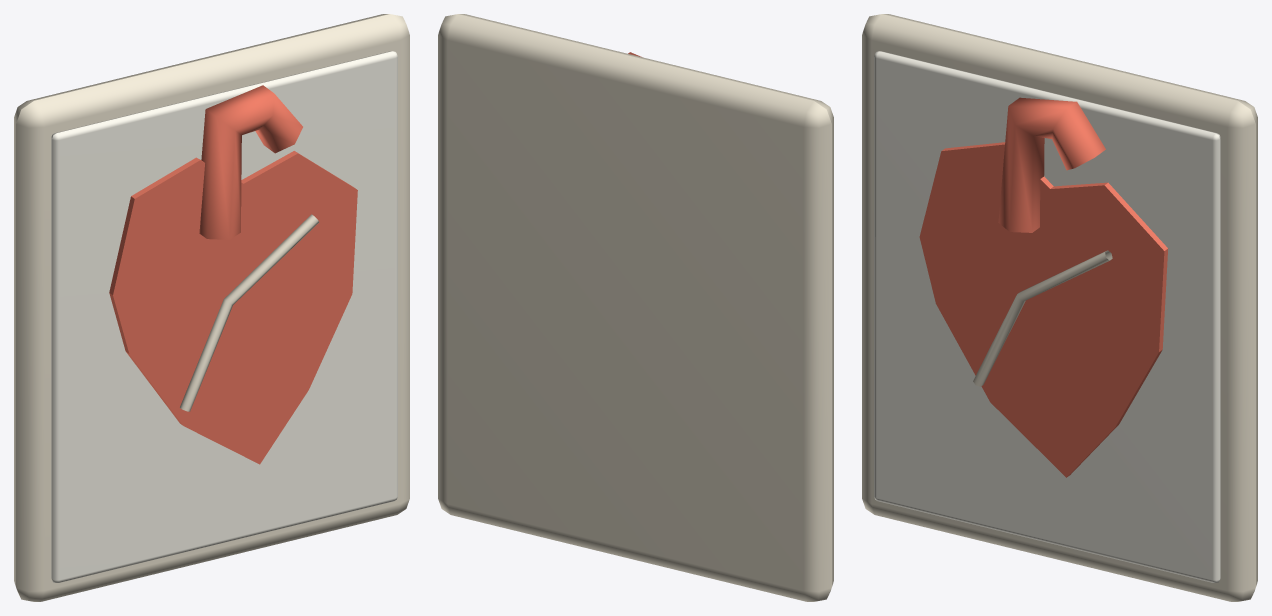
Rendered from Clinical_Art_Heart.glb.
The picture shows the model from 3 angles, left to right: view 1: azimuth 30°, elevation 25°; view 2: azimuth 150°, elevation 25°; view 3: azimuth 330°, elevation 25°; orthographic projection.
Visible parts, largest first — view 1: Clinical_Art_Heart_paper, Clinical_Art_Heart_coral, Clinical_Art_Heart_cream; view 2: Clinical_Art_Heart_cream; view 3: Clinical_Art_Heart_paper, Clinical_Art_Heart_coral, Clinical_Art_Heart_cream.
Boxes of the visible parts, x1,y1,x2,y2 form: Clinical_Art_Heart_paper: (51, 51, 397, 582); Clinical_Art_Heart_coral: (109, 85, 357, 464); Clinical_Art_Heart_cream: (14, 14, 409, 601); Clinical_Art_Heart_cream: (438, 14, 833, 601); Clinical_Art_Heart_paper: (874, 51, 1220, 582); Clinical_Art_Heart_coral: (919, 97, 1168, 477); Clinical_Art_Heart_cream: (862, 14, 1257, 601).
Bounding box in the file's own units: 0.72 × 0.88 × 0.141.
